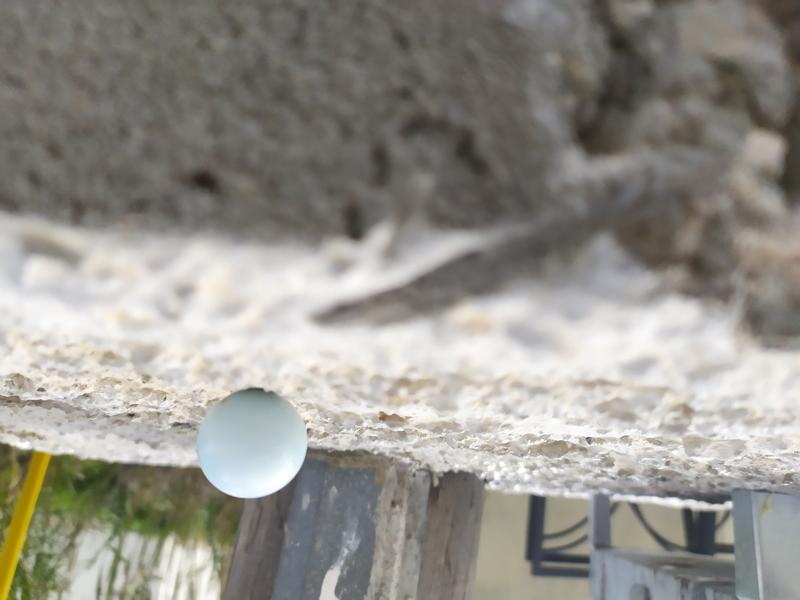Warning: (193, 383, 313, 503)
